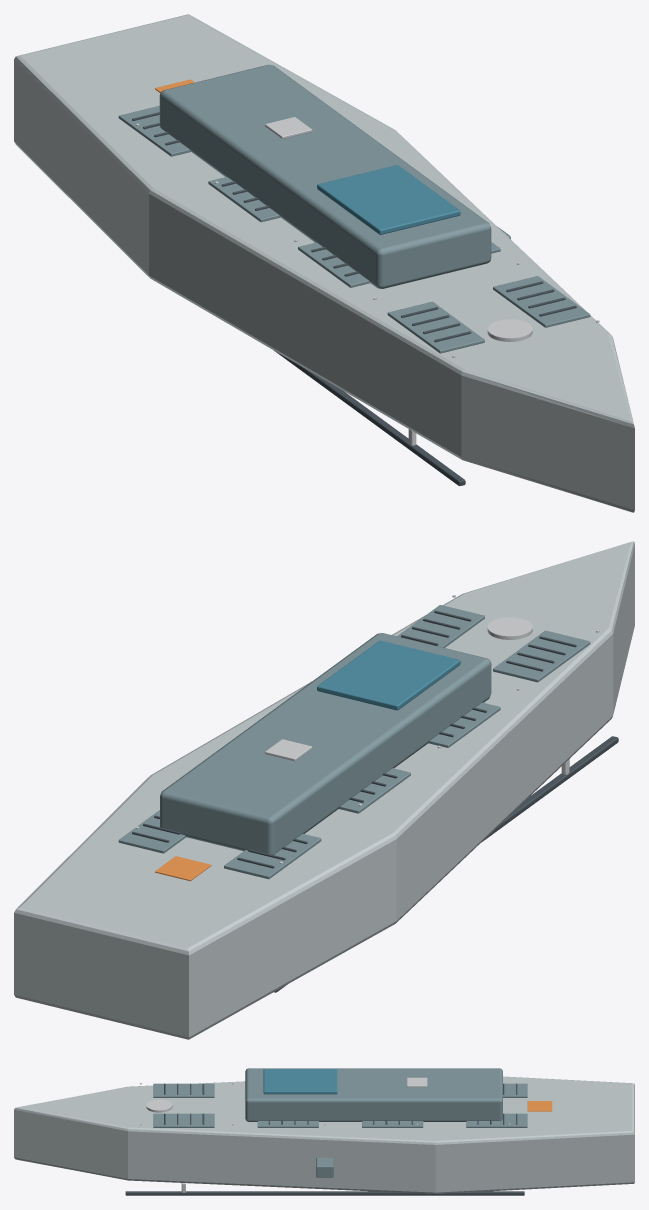
The model's file is cruiser.glb.
3 views of the same model, one above another, from view 1: azimuth 30°, elevation 25°; view 2: azimuth 150°, elevation 25°; view 3: azimuth 270°, elevation 25° (orthographic). The views are drawn at different scales.
Visible parts, largest first — view 1: cruiser-core; view 2: cruiser-core; view 3: cruiser-core.
Part boxes in pixels (<box>): cruiser-core: <box>14,14,634,512</box>; cruiser-core: <box>14,541,634,1039</box>; cruiser-core: <box>14,1068,634,1195</box>.
Bounding box in the file's own units: 5.98 × 3.52 × 21.24.
